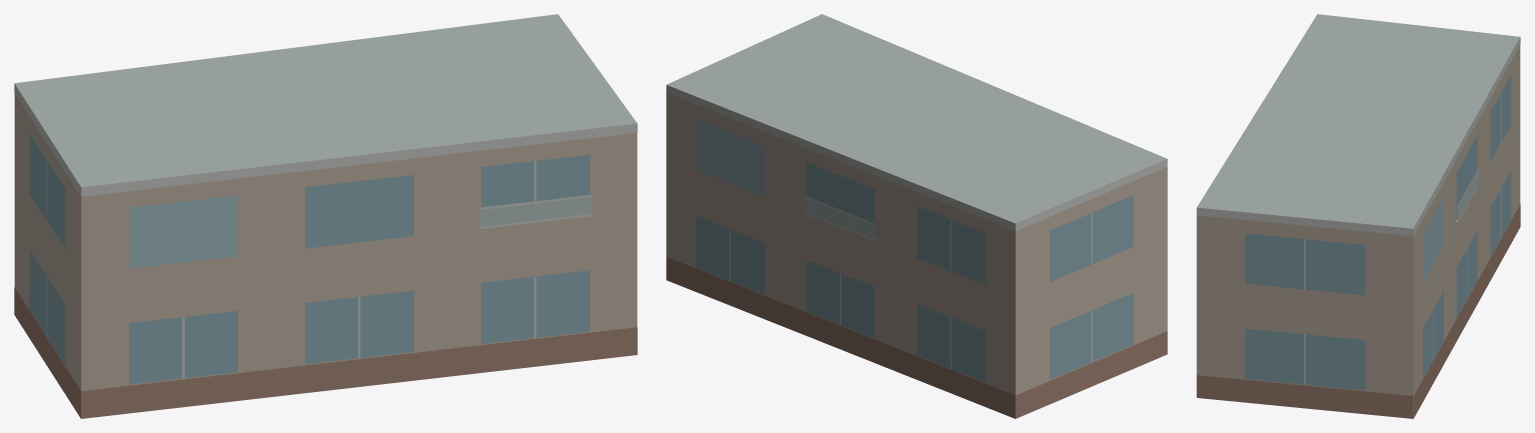
File: survey-upis-32811580.glb
The picture shows the model from 3 angles, left to right: view 1: azimuth 30°, elevation 25°; view 2: azimuth 150°, elevation 25°; view 3: azimuth 270°, elevation 25°; orthographic projection. The views are drawn at different scales.
Parts seen in each view (by area): view 1: survey-upis-32811580.tmp; view 2: survey-upis-32811580.tmp; view 3: survey-upis-32811580.tmp.
Boxes of the visible parts, x1,y1,x2,y2 form: survey-upis-32811580.tmp: (14, 14, 637, 418); survey-upis-32811580.tmp: (666, 14, 1167, 418); survey-upis-32811580.tmp: (1196, 14, 1520, 418).
Bounding box in the file's own units: 14.78 × 6.1 × 9.42.
